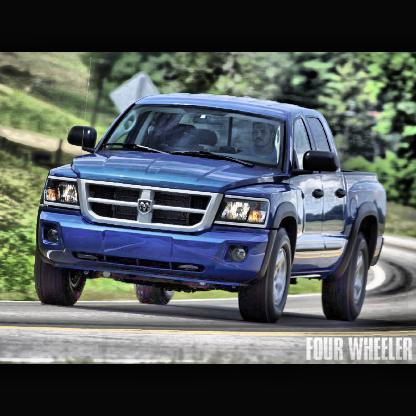Dodge Dakota Crew Cab 2010: (32, 91, 394, 329)
